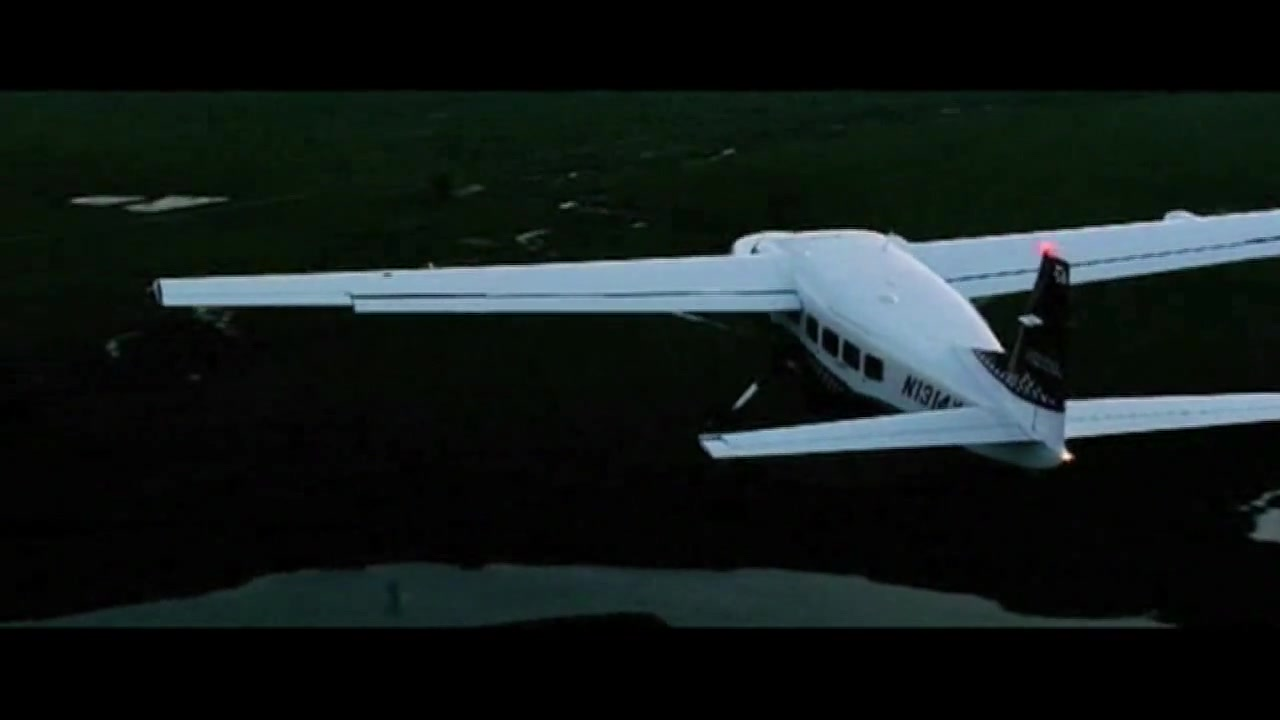aeroplane: (152, 208, 1280, 478)
